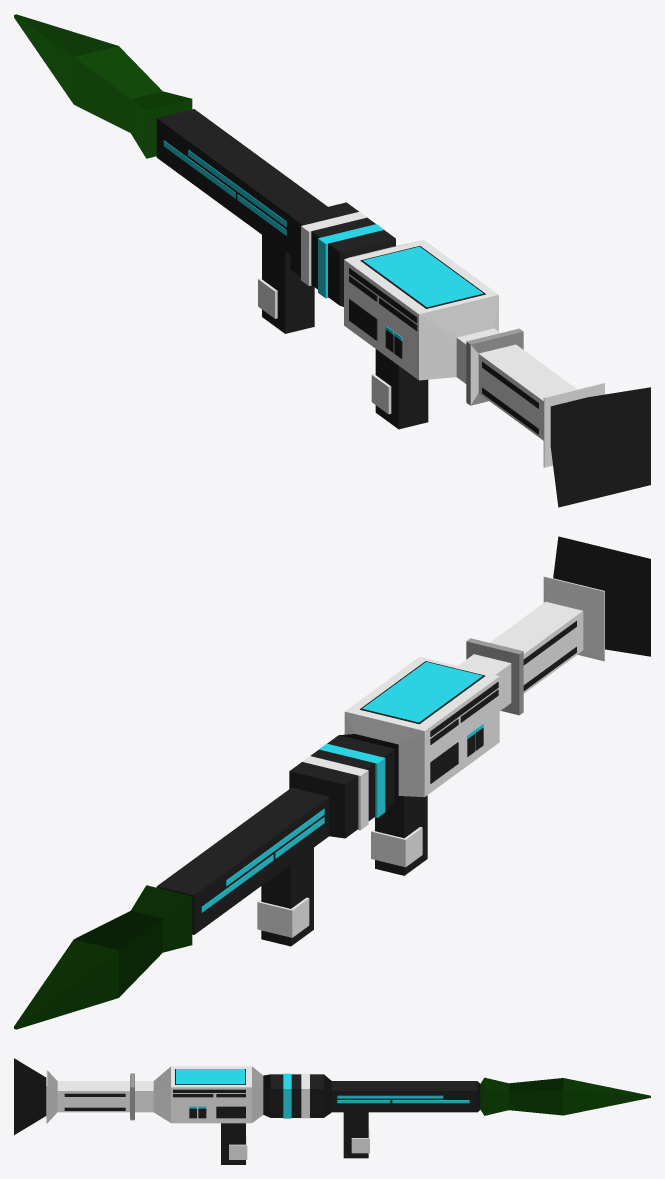
The model's file is RPG Model.obj.
3 views of the same model, one above another, from view 1: azimuth 30°, elevation 25°; view 2: azimuth 150°, elevation 25°; view 3: azimuth 270°, elevation 25° (orthographic). The views are drawn at different scales.
Parts seen in each view (by area): view 1: RPG Model; view 2: RPG Model; view 3: RPG Model.
Part boxes in pixels (x1=…): RPG Model: x1=14, y1=14, x2=650, y2=507; RPG Model: x1=14, y1=536, x2=650, y2=1029; RPG Model: x1=14, y1=1058, x2=650, y2=1164.
Size of the model in its own units: 0.2419 by 0.4182 by 2.67.
